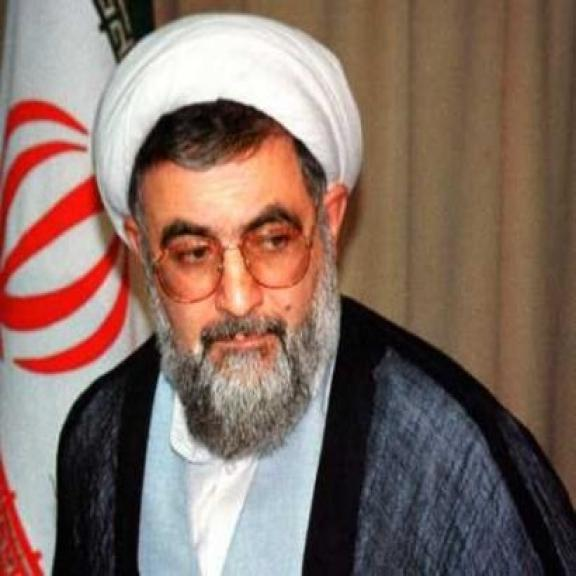face: (118, 142, 361, 418)
